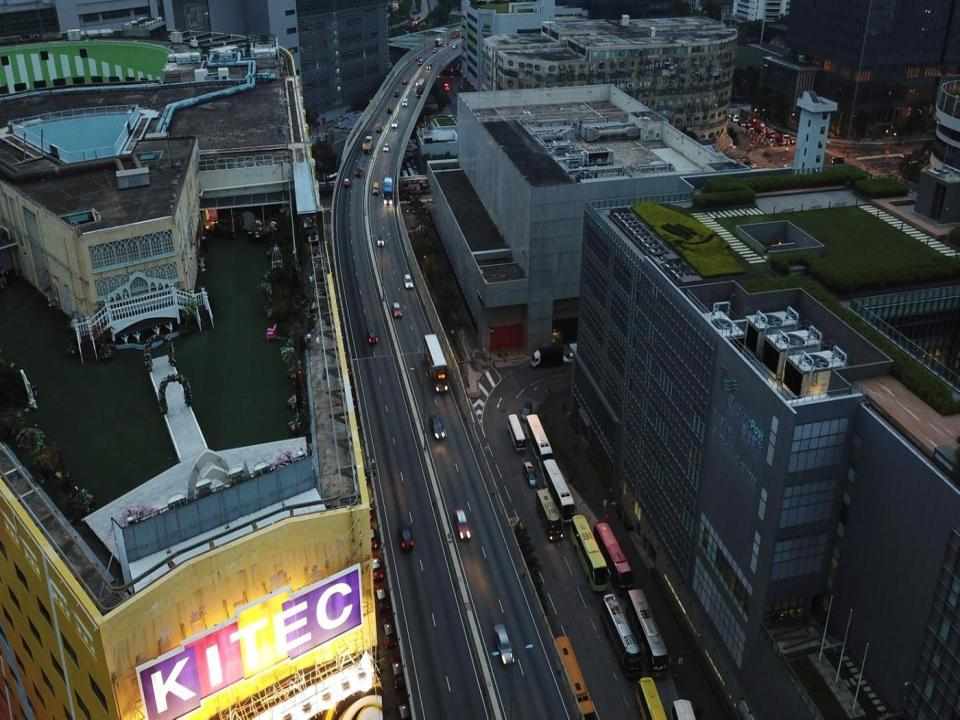bus: (624, 588, 672, 677), (601, 595, 644, 678), (553, 636, 596, 717), (570, 514, 610, 596), (594, 521, 635, 589), (541, 460, 577, 526), (420, 333, 454, 393), (525, 414, 555, 468), (636, 676, 670, 719), (536, 487, 562, 543), (505, 413, 526, 451), (672, 694, 698, 719), (382, 176, 394, 206), (417, 77, 424, 97)
car: (491, 620, 515, 669), (377, 614, 401, 651), (387, 652, 410, 689), (453, 507, 472, 541), (367, 553, 387, 583), (372, 584, 393, 612), (429, 413, 447, 440), (394, 697, 416, 719), (398, 525, 415, 553), (364, 523, 379, 551), (559, 352, 583, 364), (366, 326, 379, 346), (392, 302, 403, 322), (403, 272, 413, 292), (375, 233, 385, 249), (354, 165, 363, 179), (376, 124, 386, 135), (343, 177, 350, 189), (431, 46, 439, 56), (392, 120, 398, 129), (402, 78, 407, 88), (426, 63, 432, 71), (444, 40, 449, 48), (388, 105, 392, 114), (452, 42, 457, 48), (418, 60, 422, 65), (416, 57, 420, 61)
truck: (528, 344, 564, 370), (362, 134, 372, 156), (434, 36, 444, 44), (453, 31, 460, 38)
van: (521, 460, 540, 488), (521, 400, 534, 418), (372, 181, 380, 195), (382, 140, 390, 152), (401, 97, 408, 109), (393, 88, 398, 96)
